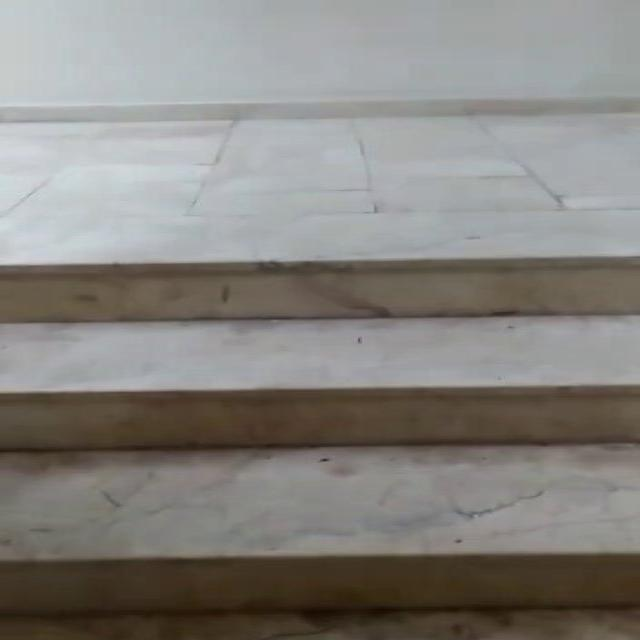stair: (3, 251, 640, 640)
